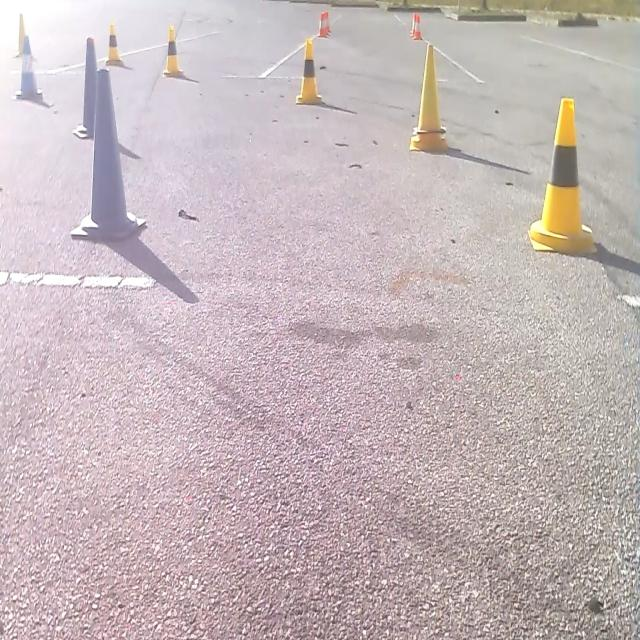blue_cone: (70, 66, 146, 244), (72, 35, 98, 139), (16, 34, 43, 99)
orange_cone: (317, 10, 331, 38), (411, 12, 423, 40), (409, 12, 416, 36)
yellow_cone: (528, 95, 597, 256), (409, 42, 448, 151), (296, 38, 322, 106), (162, 24, 184, 76), (104, 21, 128, 68), (15, 12, 26, 57)
